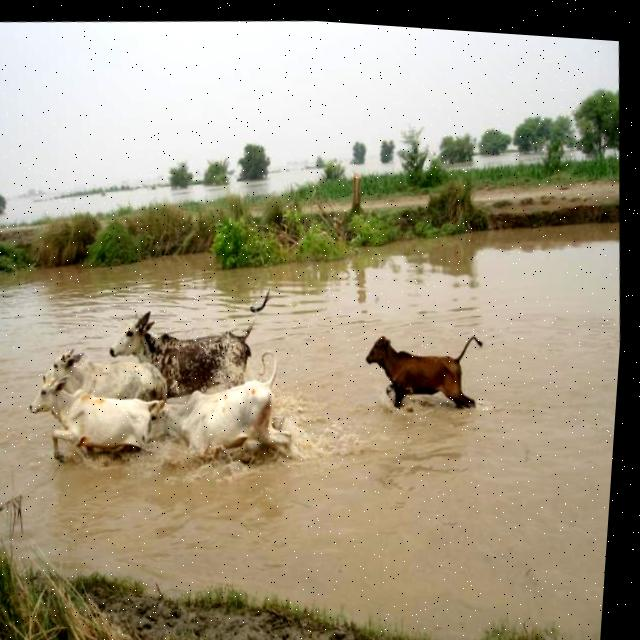cow: (94, 292, 271, 403), (140, 359, 298, 481), (353, 313, 502, 426), (25, 374, 160, 468), (35, 339, 170, 407)
